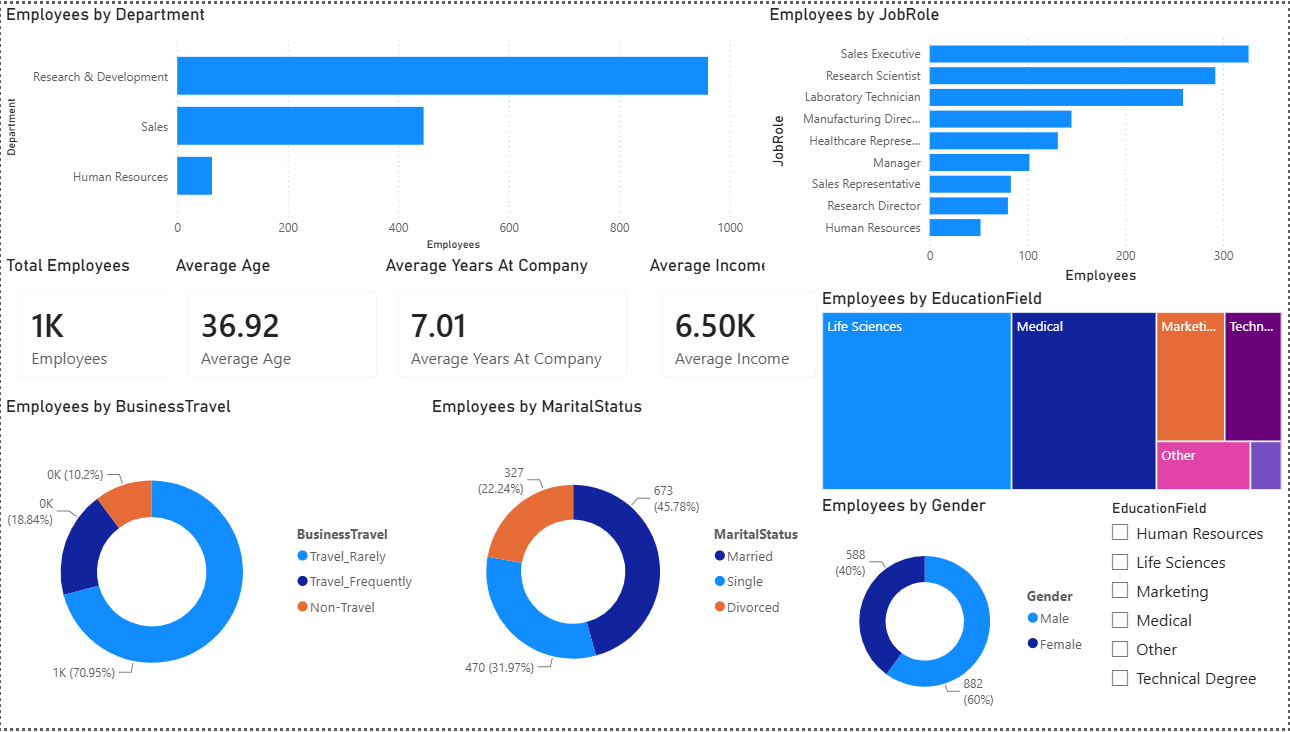

The dashboard page shown, as its layout file describes it:
{"tool":"powerbi","page":{"name":"Workforce Demographics","canvas":[1280,720],"ordinal":2},"visuals":[{"type":"cardVisual","title":"Total Employees","fields":{"Data":["HR-Employee.Employees"]},"box":[0,249.5,200.3,139.8],"z":0},{"type":"cardVisual","title":"Average Age","fields":{"Data":["HR-Employee.Average Age"]},"box":[168.2,249.5,223,139.8],"z":1000},{"type":"cardVisual","title":"Average Income","fields":{"Data":["HR-Employee.Average Income"]},"box":[640.6,249.5,189,139.8],"z":2000},{"type":"cardVisual","title":"Average Years At Company","fields":{"Data":["HR-Employee.Average Years At Company"]},"box":[378,249.5,262.7,139.8],"z":3000},{"type":"clusteredBarChart","fields":{"Category":["HR-Employee.Department"],"Y":["HR-Employee.Employees"]},"box":[0,0,742.7,249.5],"z":4000},{"type":"clusteredBarChart","fields":{"Category":["HR-Employee.JobRole"],"Y":["HR-Employee.Employees"]},"box":[759.7,0,519.7,281.6],"z":5000},{"type":"donutChart","fields":{"Category":["HR-Employee.Gender"],"Y":["HR-Employee.Employees"]},"box":[812.6,487.6,279.7,232.4],"z":6000},{"type":"treemap","fields":{"Group":["HR-Employee.EducationField"],"Values":["HR-Employee.Employees"]},"box":[812.6,281.6,466.8,206],"z":7000},{"type":"donutChart","fields":{"Category":["HR-Employee.BusinessTravel"],"Y":["HR-Employee.Employees"]},"box":[0,389.3,423.3,330.7],"z":8000},{"type":"donutChart","fields":{"Category":["HR-Employee.MaritalStatus"],"Y":["HR-Employee.Employees"]},"box":[423.3,389.3,389.3,330.7],"z":9000},{"type":"slicer","fields":{"Values":["HR-Employee.EducationField"]},"box":[1093,488,187,232],"z":10000}]}

Visuals, with their boxes in screenshot pixels (x1, y1, x2, y2), scaled from the page's 1280x720 canvas onto the 1290x732 screenshot:
"Total Employees" cardVisual: [0,254,202,396]
"Average Age" cardVisual: [170,254,394,396]
"Average Income" cardVisual: [646,254,836,396]
"Average Years At Company" cardVisual: [381,254,646,396]
clusteredBarChart - HR-Employee.Department x HR-Employee.Employees: [0,0,749,254]
clusteredBarChart - HR-Employee.JobRole x HR-Employee.Employees: [766,0,1289,286]
donutChart - HR-Employee.Gender x HR-Employee.Employees: [819,496,1101,731]
treemap - HR-Employee.EducationField x HR-Employee.Employees: [819,286,1289,496]
donutChart - HR-Employee.BusinessTravel x HR-Employee.Employees: [0,396,427,731]
donutChart - HR-Employee.MaritalStatus x HR-Employee.Employees: [427,396,819,731]
slicer - HR-Employee.EducationField: [1102,496,1289,731]
